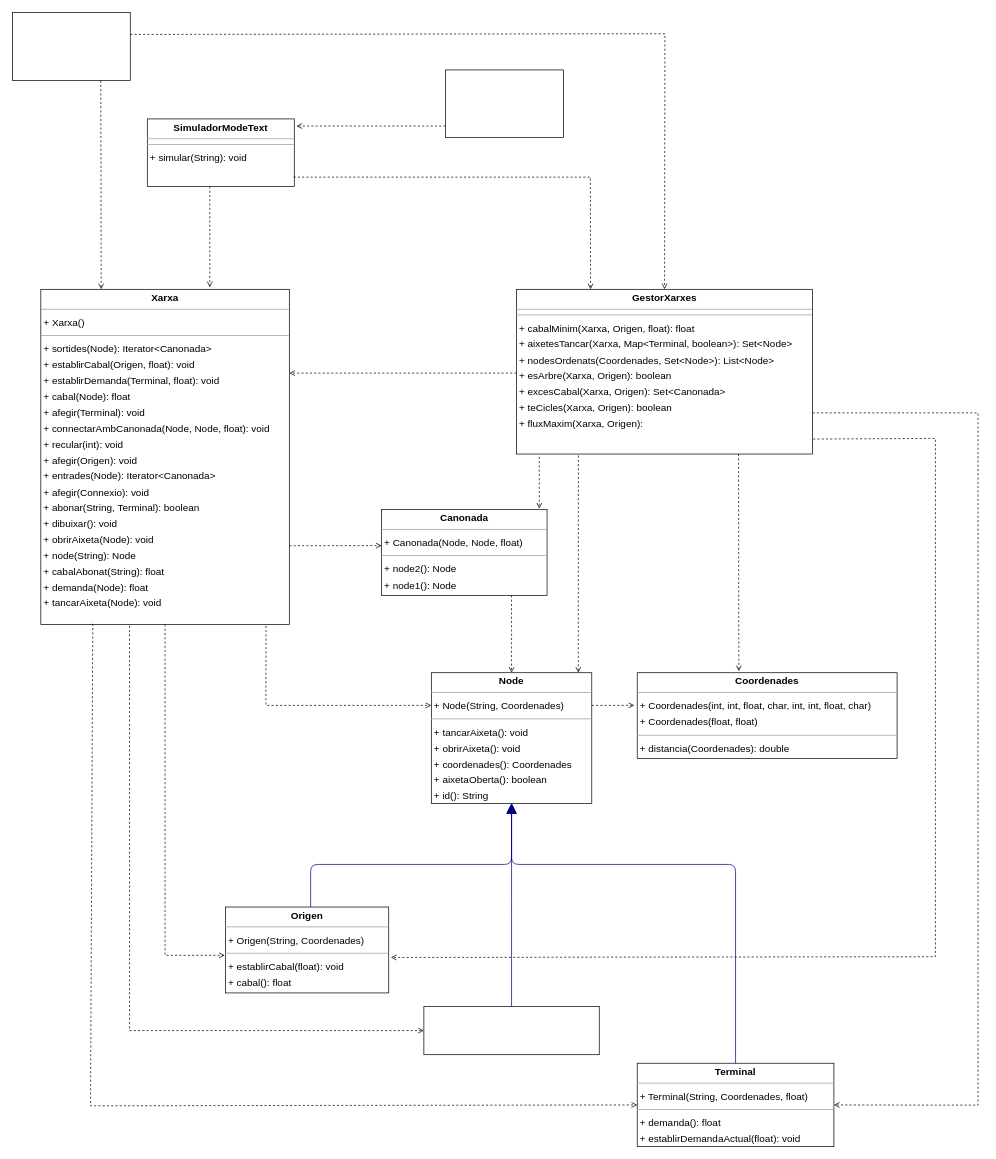
The diagram is 996 pixels wide and 1159 high, and some of its shapes have lost their labels. The box of each missing label's shape, as (x1, y1, x2, y2) in pixels:
BeWater + main(String[]): void: (445, 69, 563, 137)
BeWaterGUI + main(String[]): void: (12, 12, 130, 81)
Connexio + Connexio(String, Coordenades): (423, 1006, 599, 1055)
